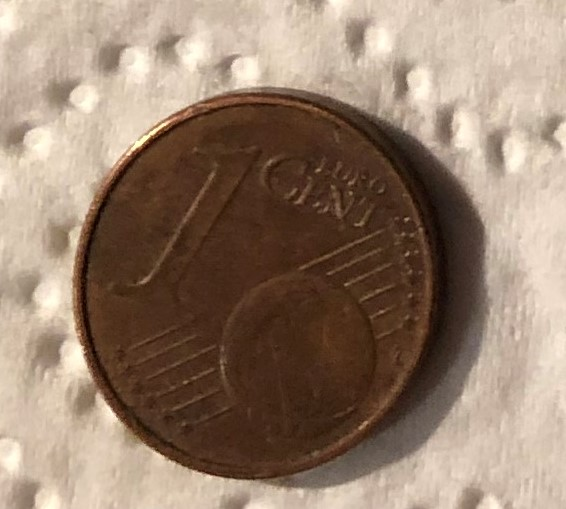1 cent: (69, 81, 464, 481)
